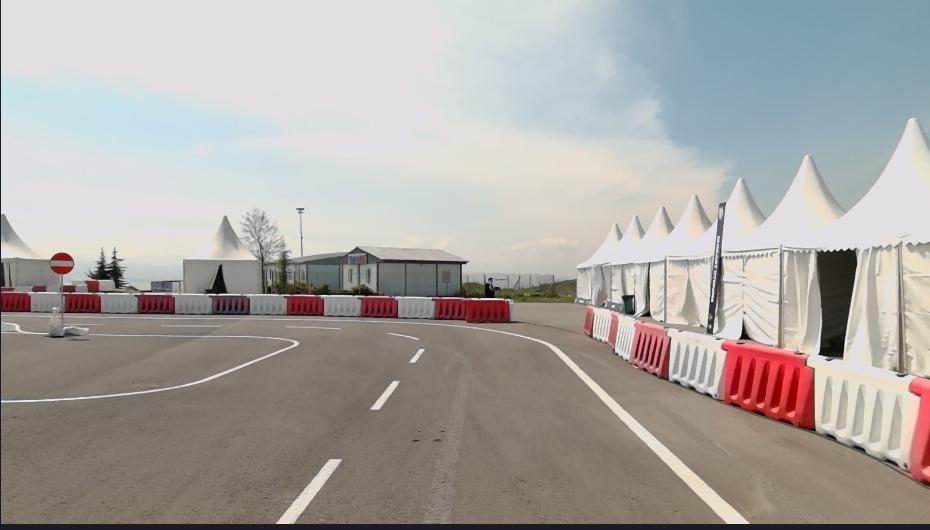nesne: (2, 311, 750, 523), (1, 312, 750, 523), (0, 311, 749, 522), (1, 320, 425, 523), (581, 304, 930, 486), (2, 332, 299, 402), (0, 290, 510, 322), (804, 354, 918, 470), (720, 338, 812, 431), (664, 328, 724, 399), (277, 457, 341, 523), (906, 377, 929, 485), (629, 319, 668, 381), (464, 298, 510, 322), (613, 314, 633, 361), (370, 379, 400, 410), (397, 296, 433, 320), (100, 290, 137, 313), (135, 292, 175, 313), (322, 295, 360, 317), (249, 293, 285, 316), (360, 296, 397, 318), (433, 296, 465, 321), (174, 295, 212, 315), (286, 294, 322, 315), (47, 251, 76, 276), (212, 294, 247, 314), (590, 308, 610, 341), (30, 291, 63, 310), (66, 294, 99, 311), (1, 291, 29, 310), (607, 310, 619, 347), (582, 304, 593, 335), (163, 322, 219, 327), (285, 324, 340, 329), (408, 347, 425, 362), (388, 331, 416, 339), (100, 281, 115, 292), (85, 280, 99, 291), (64, 321, 99, 325), (75, 284, 87, 292), (64, 285, 74, 291)
